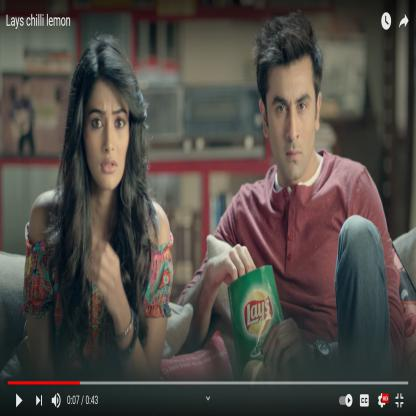chile_limon: (228, 260, 286, 384)
